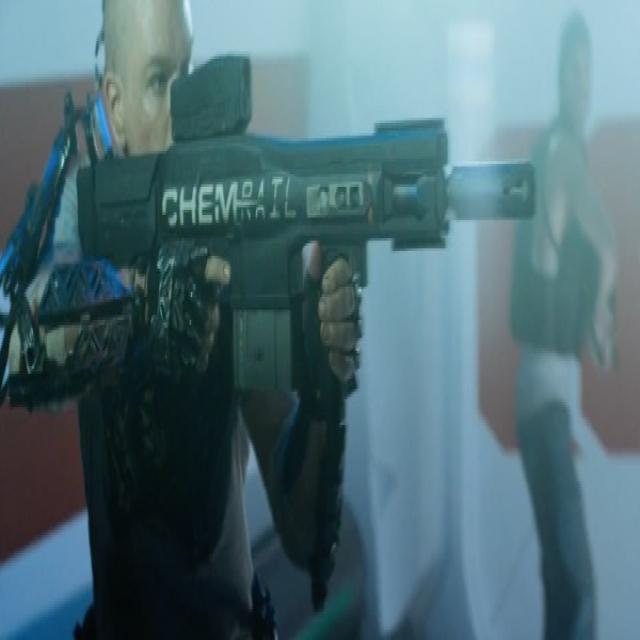rifle: (68, 43, 541, 412)
